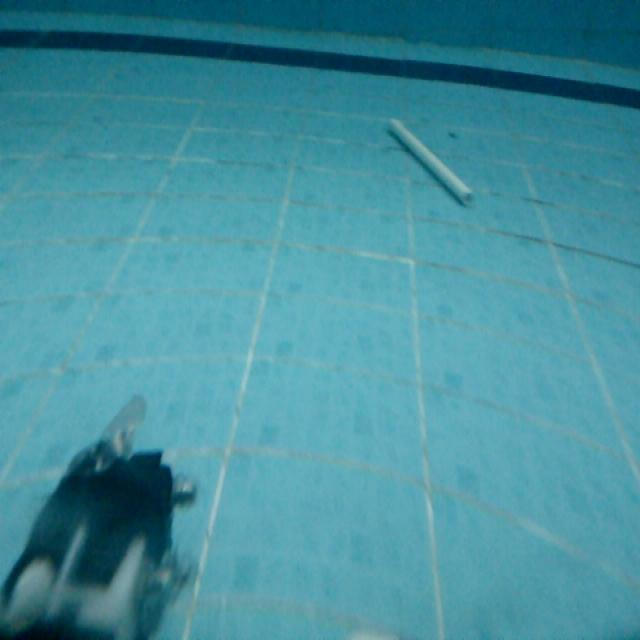Cube: (384, 111, 475, 209)
